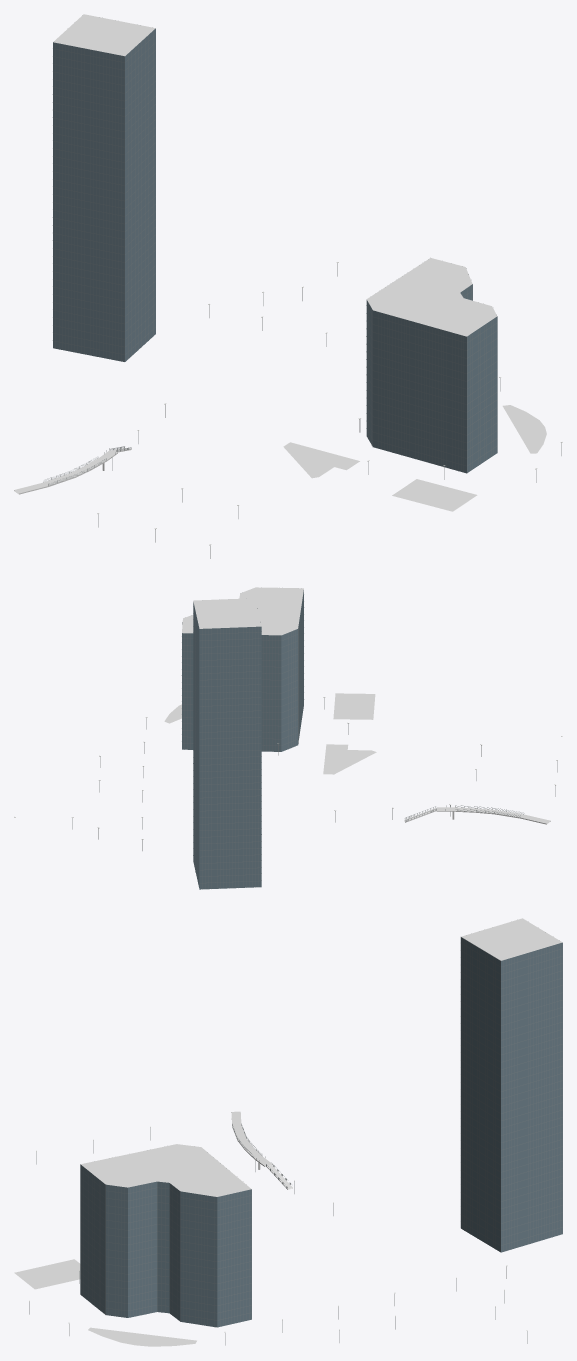
The picture shows the model from 3 angles, top to bottom: view 1: azimuth 30°, elevation 25°; view 2: azimuth 150°, elevation 25°; view 3: azimuth 270°, elevation 25°; orthographic projection. The views are drawn at different scales.
Visible parts, largest first — view 1: 3_-1_超高层蓝灰幕墙, 3_-1_城市金属细框, 3_-1_v02 深灰屋面, 3_-1_v02 草地, 3_-1_步行桥面 · 7m; view 2: 3_-1_超高层蓝灰幕墙, 3_-1_城市金属细框, 3_-1_v02 深灰屋面, 3_-1_v02 草地, 3_-1_步行桥面 · 7m, 3_-1_桥栏杆银灰; view 3: 3_-1_超高层蓝灰幕墙, 3_-1_城市金属细框, 3_-1_v02 深灰屋面, 3_-1_v02 草地, 3_-1_步行桥面 · 7m.
Part boxes in pixels (x1=…): 3_-1_超高层蓝灰幕墙: x1=53, y1=28, x2=497, y2=473; 3_-1_城市金属细框: x1=52, y1=31, x2=497, y2=473; 3_-1_v02 深灰屋面: x1=53, y1=14, x2=496, y2=336; 3_-1_v02 草地: x1=283, y1=405, x2=546, y2=511; 3_-1_步行桥面 · 7m: x1=14, y1=450, x2=117, y2=494; 3_-1_超高层蓝灰幕墙: x1=182, y1=590, x2=303, y2=889; 3_-1_城市金属细框: x1=181, y1=601, x2=304, y2=889; 3_-1_v02 深灰屋面: x1=182, y1=587, x2=303, y2=635; 3_-1_v02 草地: x1=164, y1=693, x2=376, y2=774; 3_-1_步行桥面 · 7m: x1=436, y1=807, x2=550, y2=824; 3_-1_桥栏杆银灰: x1=72, y1=698, x2=557, y2=850; 3_-1_超高层蓝灰幕墙: x1=80, y1=937, x2=562, y2=1327; 3_-1_城市金属细框: x1=80, y1=937, x2=562, y2=1326; 3_-1_v02 深灰屋面: x1=81, y1=918, x2=562, y2=1196; 3_-1_v02 草地: x1=14, y1=1259, x2=196, y2=1346; 3_-1_步行桥面 · 7m: x1=231, y1=1111, x2=272, y2=1166.
Size of the model in its own units: 261 by 160 by 272.
